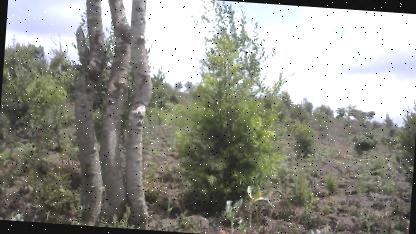tree: (165, 0, 289, 217), (57, 0, 166, 230)
